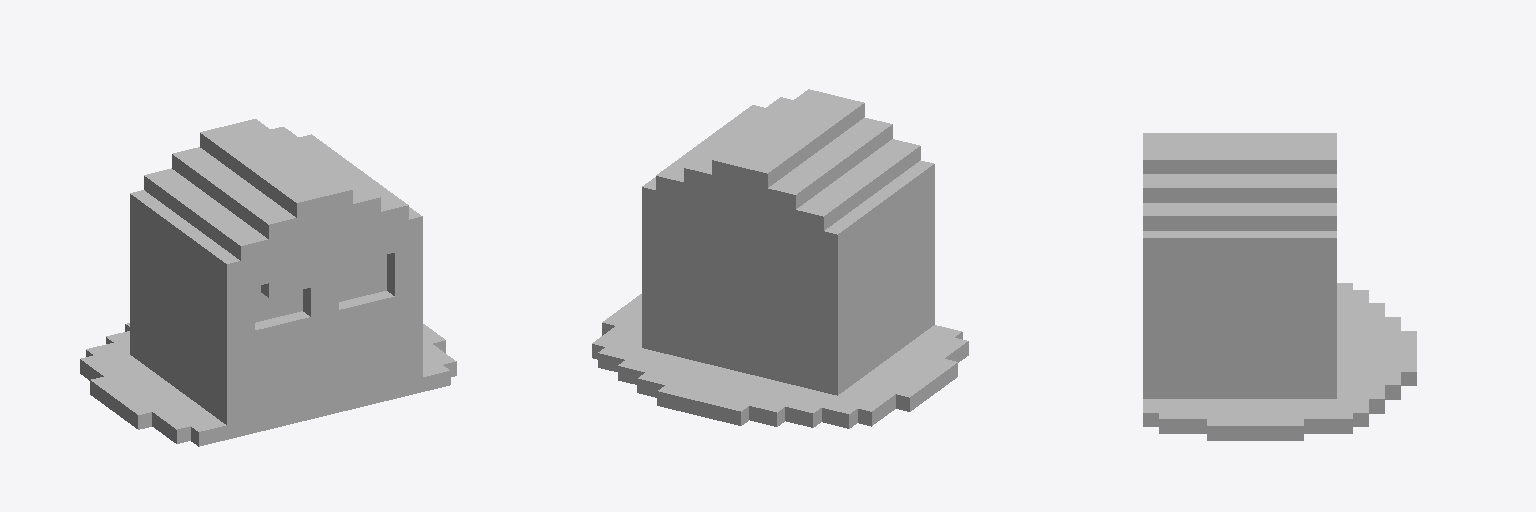
The model's file is minion.obj.
3 views of the same model, side by side, from view 1: azimuth 30°, elevation 25°; view 2: azimuth 150°, elevation 25°; view 3: azimuth 270°, elevation 25° (orthographic).
Parts seen in each view (by area): view 1: minion; view 2: minion; view 3: minion.
Boxes of the visible parts, x1,y1,x2,y2 form: minion: [80, 119, 456, 446]; minion: [592, 89, 968, 428]; minion: [1143, 133, 1416, 440].
Bounding box in the file's own units: 22 × 15 × 17.